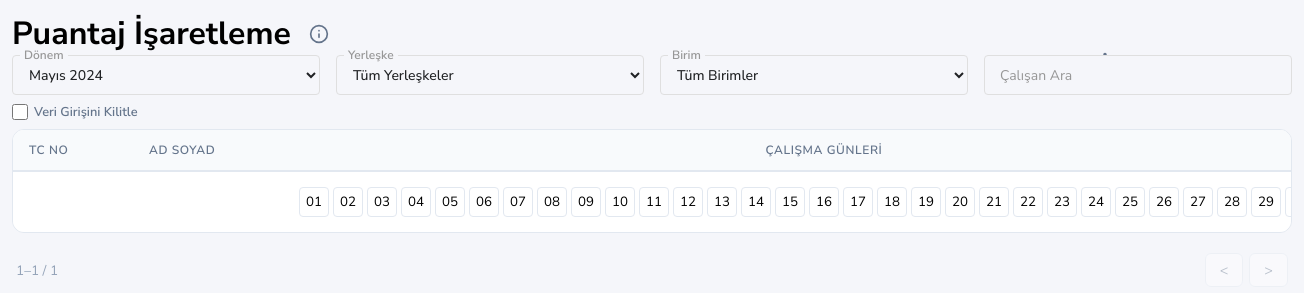
it: TimesheetPage (Puantaj Yönetimi) › 10. Case: Resmi tatile tıklanınca uyarı toast göstermeli
The image size is (1304, 293).
Step 1. Click the button "01" → (314, 202), box [299,187,329,217]
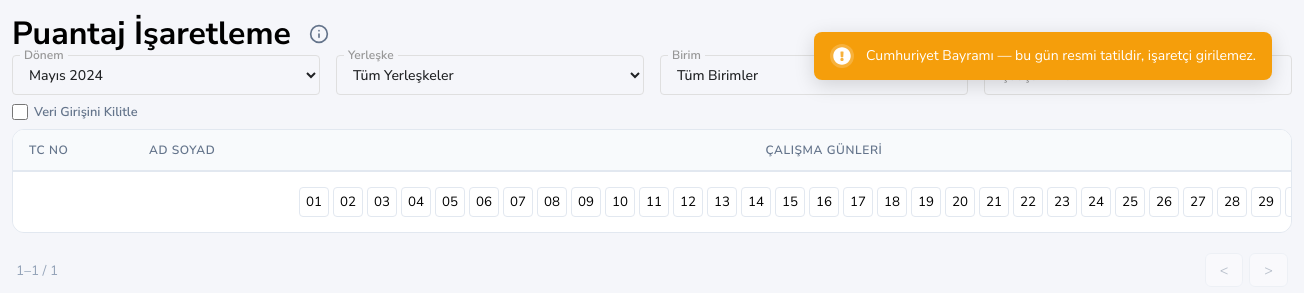
expect the text "Cumhuriyet Bayramı" is shown: met, box [866,46,1256,65]
